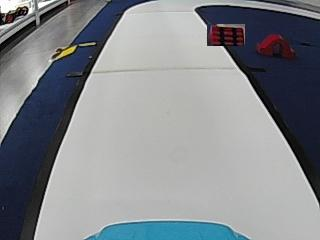bridge: (255, 35, 294, 58)
